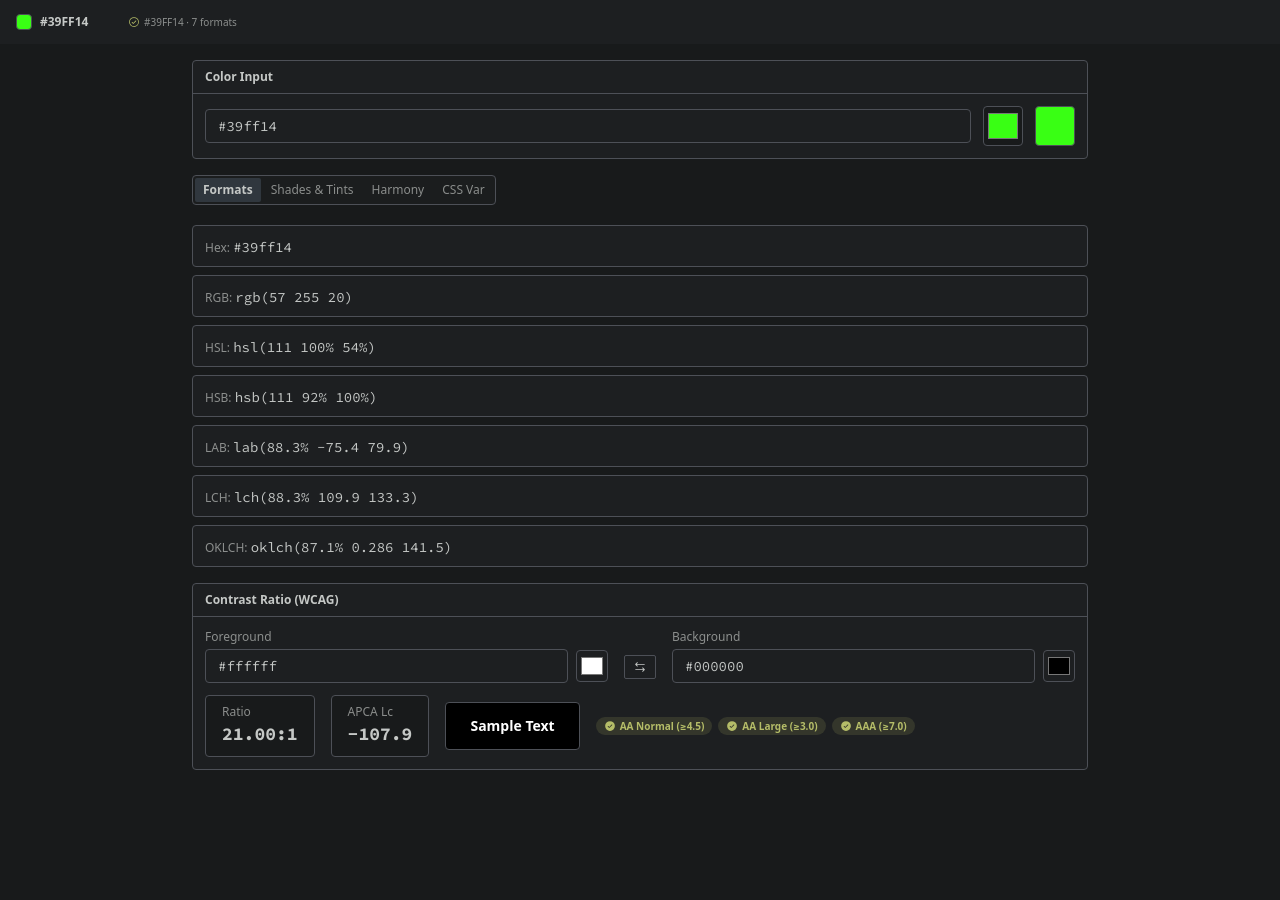
Test: ColorConverter — status and copy affordance › says the input was not understood rather than silently showing nothing
Replace the text in the field with placeholder "#39ff14" with "not a color": (588, 126) [205,109,971,143]
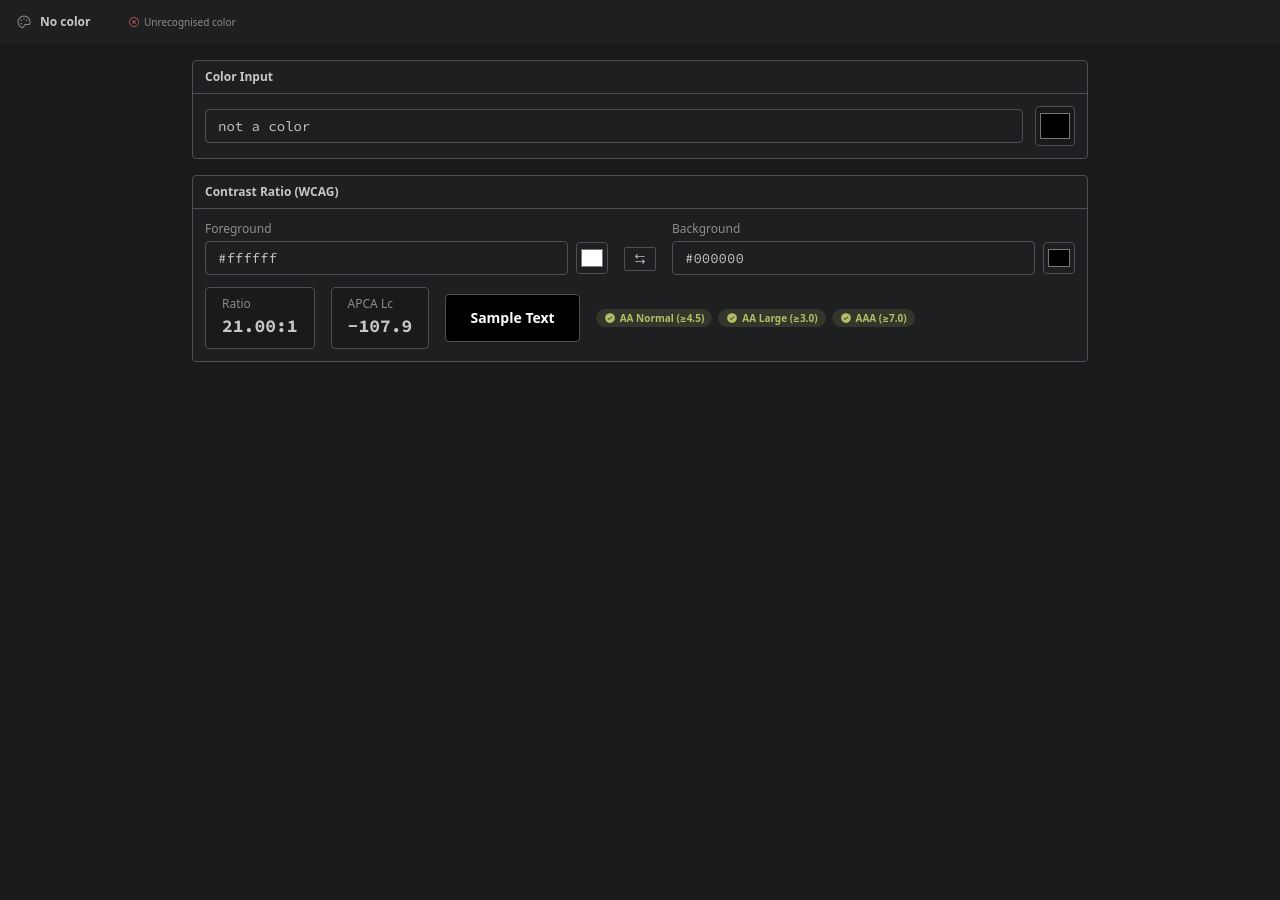
expect the message with test id "color-status" reads "Unrecognised color": met, box [144,15,236,29]
